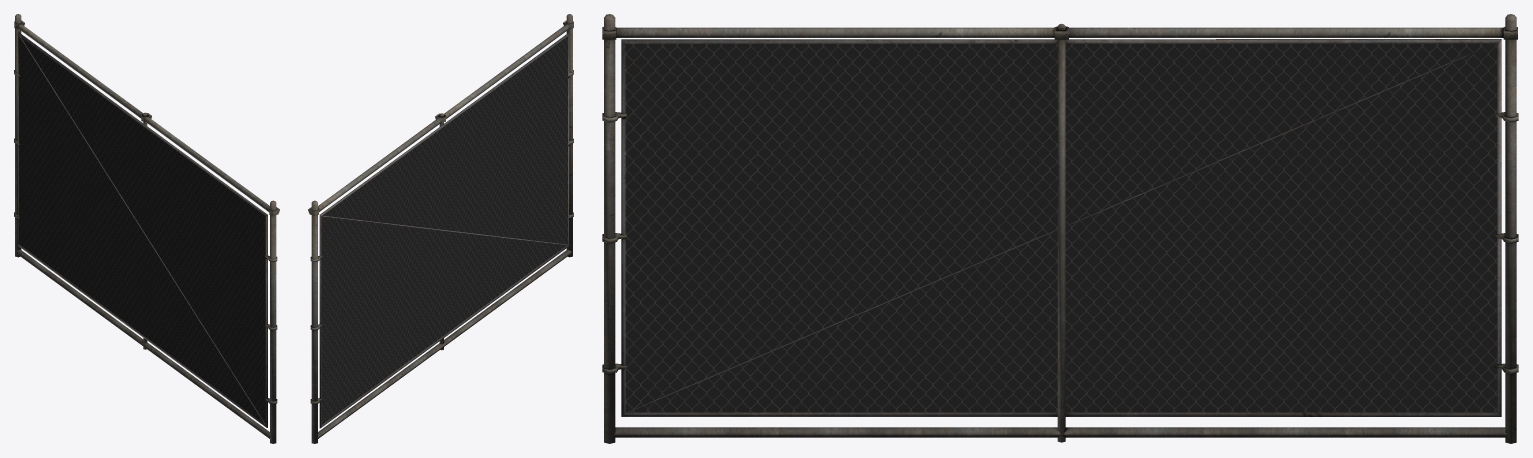
The model's file is exterior_fence_notbarbed002d.glb.
The picture shows the model from 3 angles, left to right: view 1: azimuth 30°, elevation 25°; view 2: azimuth 150°, elevation 25°; view 3: azimuth 270°, elevation 25°; orthographic projection. The views are drawn at different scales.
Parts seen in each view (by area): view 1: exterior_fence_notbarbed002d; view 2: exterior_fence_notbarbed002d; view 3: exterior_fence_notbarbed002d.
Part boxes in pixels (x1,y1,x2,y2): exterior_fence_notbarbed002d: (14, 14, 279, 443); exterior_fence_notbarbed002d: (308, 14, 573, 443); exterior_fence_notbarbed002d: (602, 14, 1518, 443).
Bounding box in the file's own units: 0.0963 × 2.51 × 4.9.
Materials: 2 (2 with a texture image).
